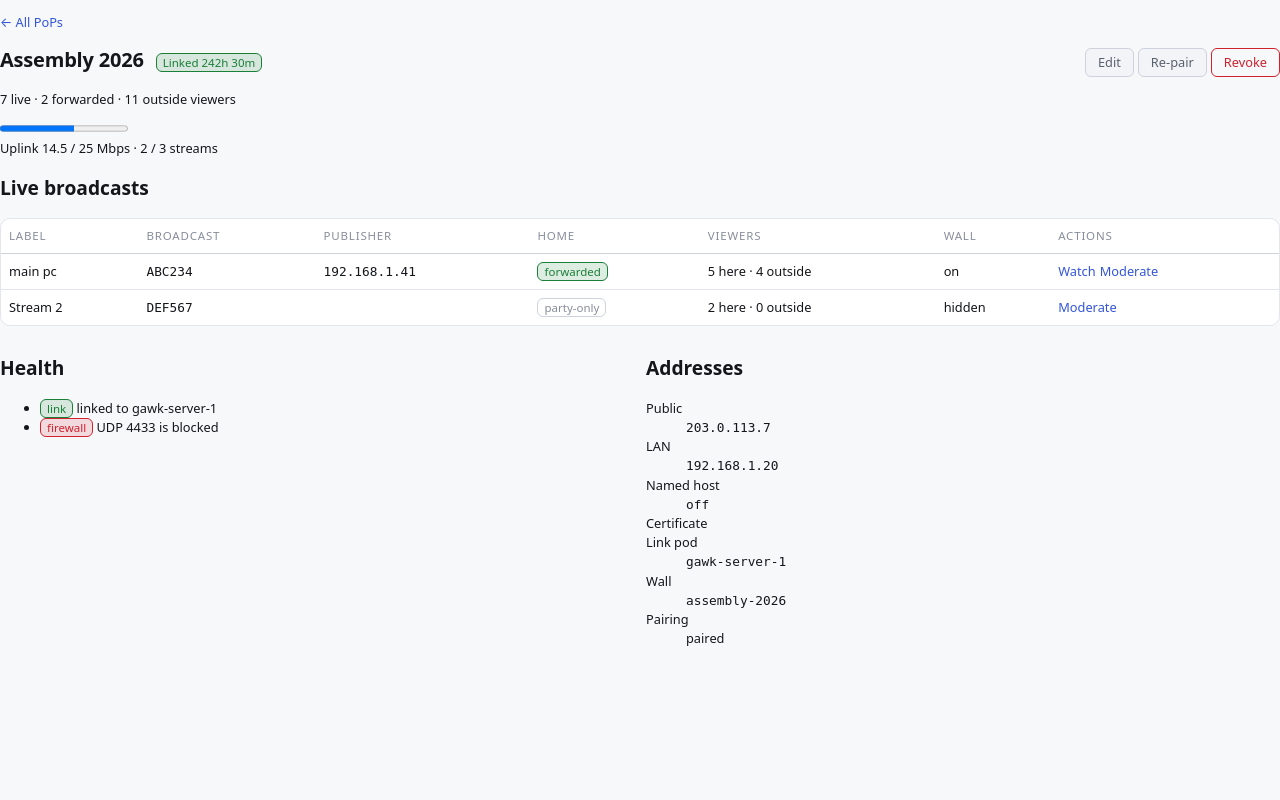
Test case: the PoP detail › re-pairs after a confirmation and shows the new string once
The image size is (1280, 800).
Click the button "Re-pair": (1172, 62) [1138,48,1207,77]
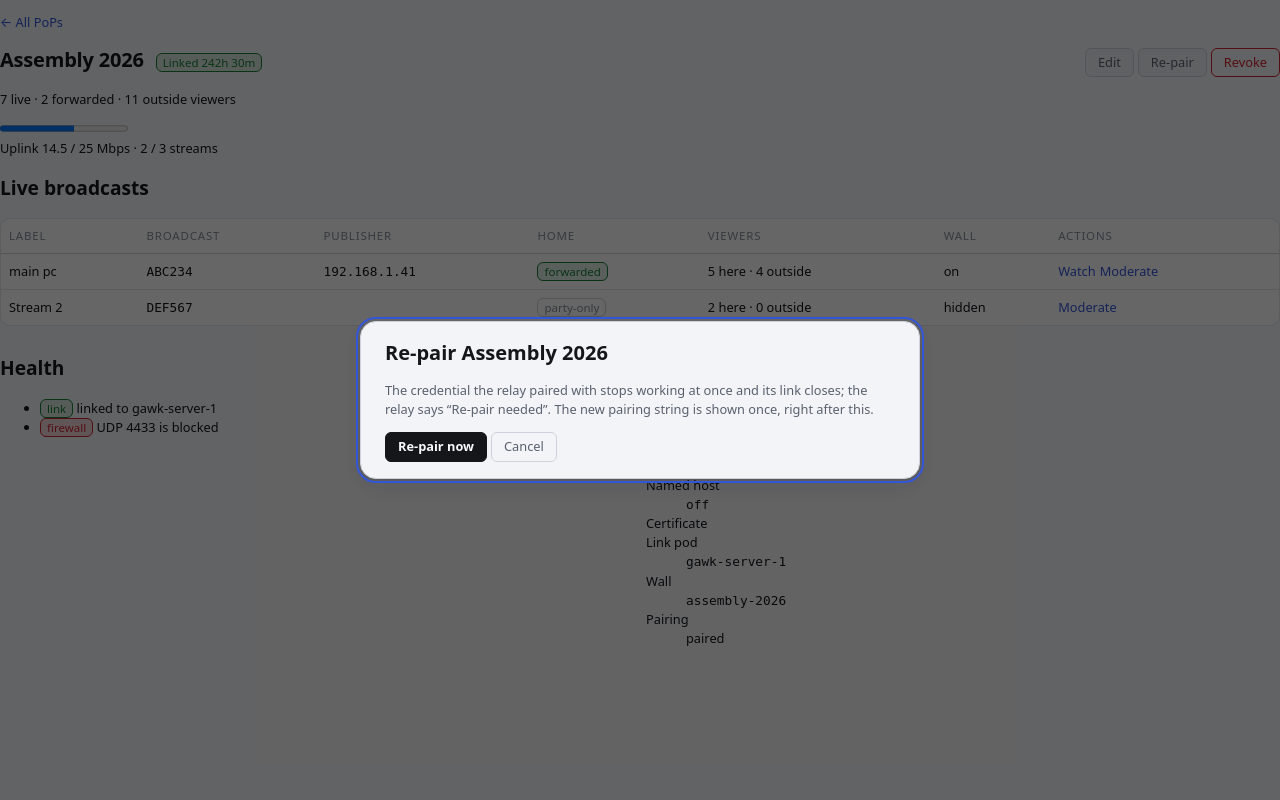
Check: the text "stops working at once" is shown, box [385,381,874,418]
Click the button "Re-pair now": (436, 447) [385,432,487,462]
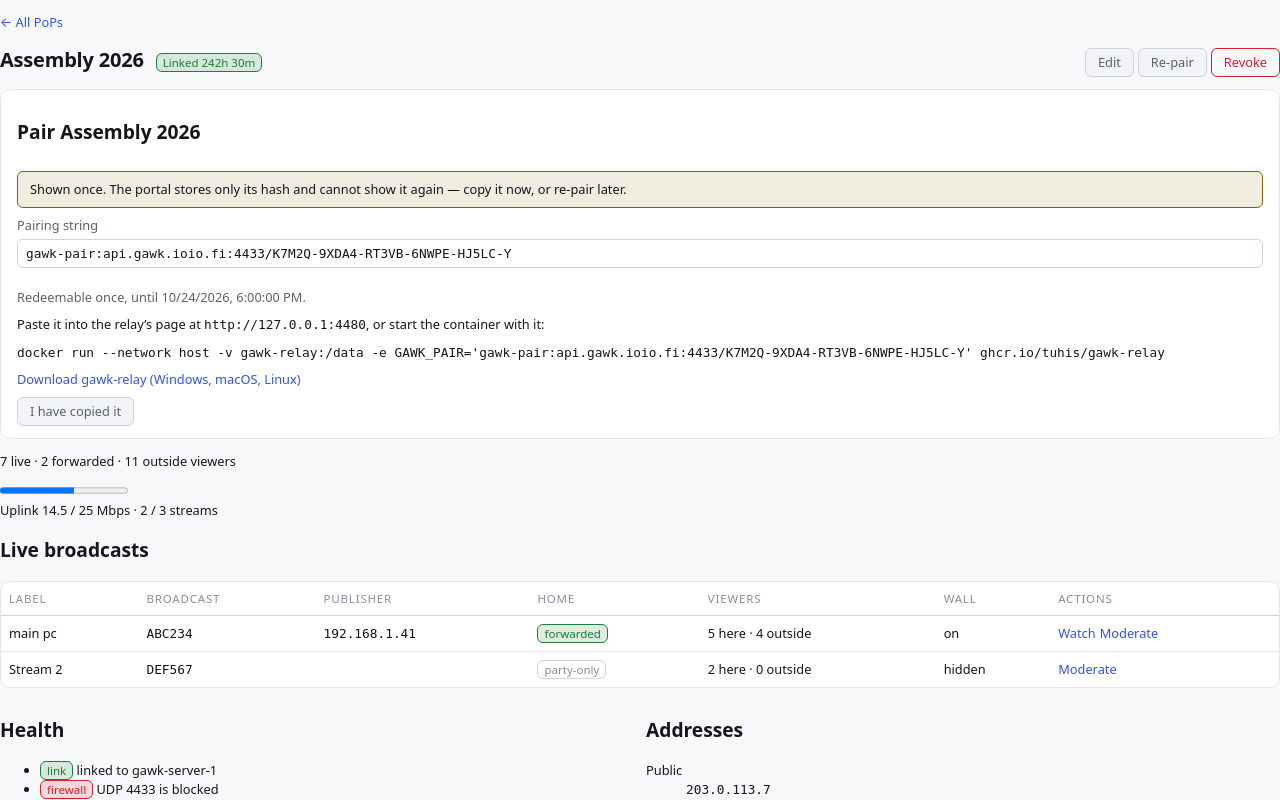
Check: the field labelled "Pairing string" holds "gawk-pair:api.gawk.ioio.fi:4433/K7M2Q-9XDA4-RT3VB-6NWPE-HJ5LC-Y", box [17,239,1263,268]
